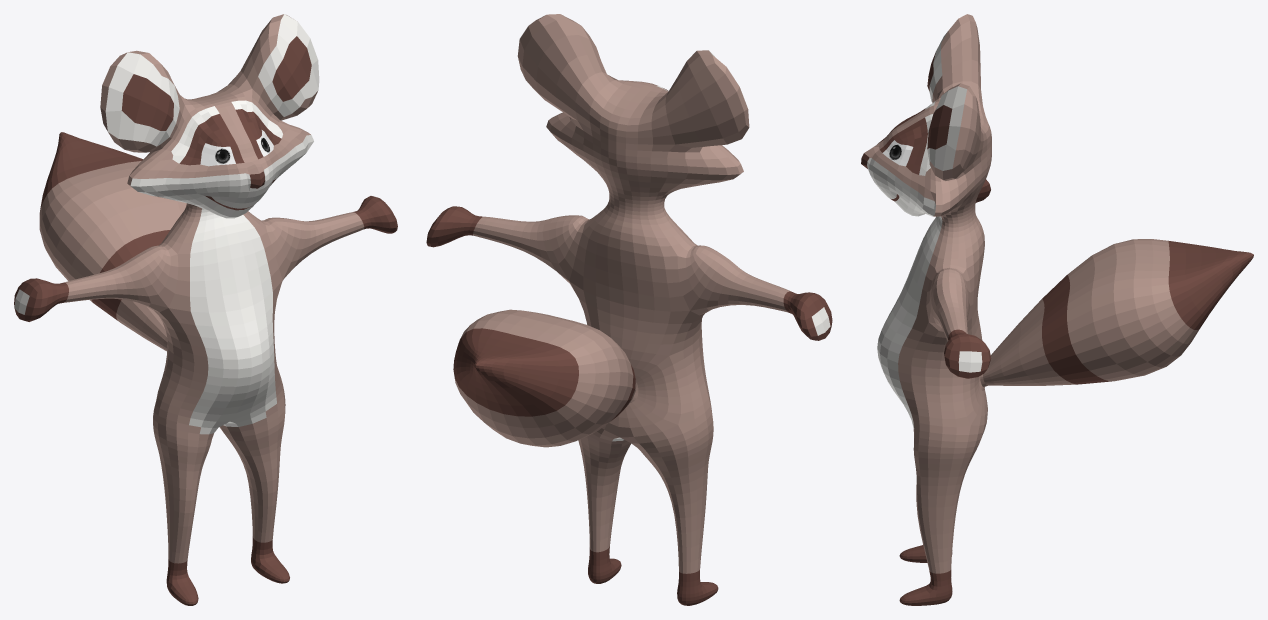
File: Myuu.fbx
3 renders of one model, left to right at view 1: azimuth 30°, elevation 25°; view 2: azimuth 150°, elevation 25°; view 3: azimuth 270°, elevation 25°, orthographic. The views are drawn at different scales.
Visible parts, largest first — view 1: Myuu; view 2: Myuu; view 3: Myuu.
Boxes of the visible parts, <box> form: Myuu: <box>14,14,397,605</box>; Myuu: <box>426,14,832,605</box>; Myuu: <box>861,14,1253,605</box>.
Bounding box in the file's own units: 1025 × 1416 × 950.
4 materials, 1 textured.
